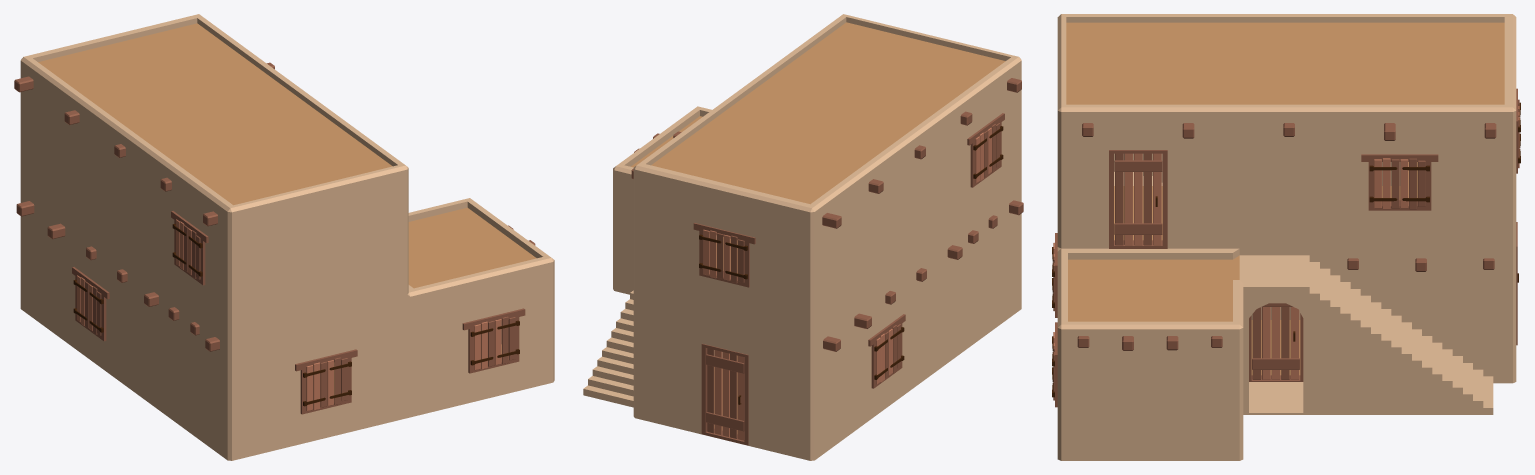
File: Large Building D.fbx
3 renders of one model, left to right at view 1: azimuth 30°, elevation 25°; view 2: azimuth 150°, elevation 25°; view 3: azimuth 270°, elevation 25°, orthographic. The views are drawn at different scales.
Parts seen in each view (by area): view 1: Large Building D; view 2: Large Building D; view 3: Large Building D.
Part boxes in pixels (box(x1,y1,x2,y2)): Large Building D: box(14, 14, 554, 460); Large Building D: box(583, 14, 1023, 460); Large Building D: box(1052, 14, 1520, 460).
Size of the model in its own units: 953 by 653 by 1011.
